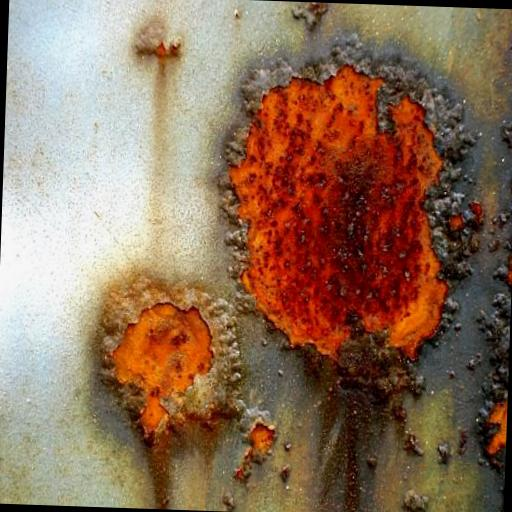segmentation: (230, 65, 447, 357), (100, 278, 245, 508), (299, 328, 423, 512), (249, 419, 275, 458), (488, 399, 506, 454), (293, 1, 327, 28), (137, 39, 180, 56), (450, 216, 462, 229)
